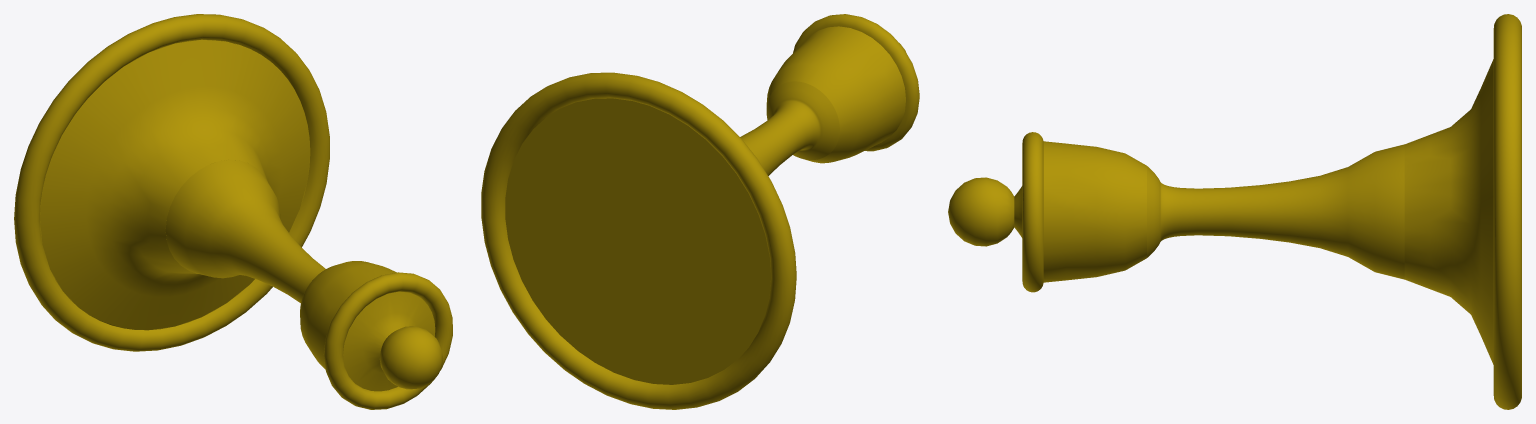
The model's file is pawn.obj.
3 renders of one model, left to right at view 1: azimuth 30°, elevation 25°; view 2: azimuth 150°, elevation 25°; view 3: azimuth 270°, elevation 25°, orthographic. The views are drawn at different scales.
Size of the model in its own units: 55.7 by 55.74 by 80.77.
